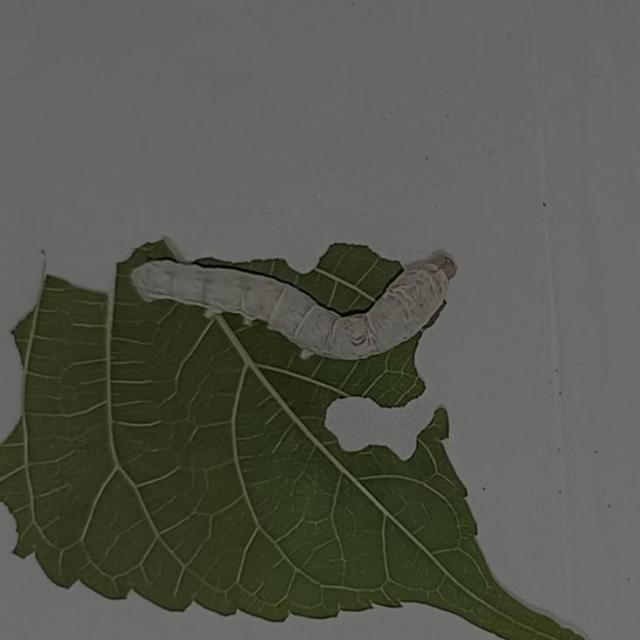Healthy: (121, 225, 488, 402)
